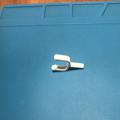u-shape: (49, 53, 86, 75)
